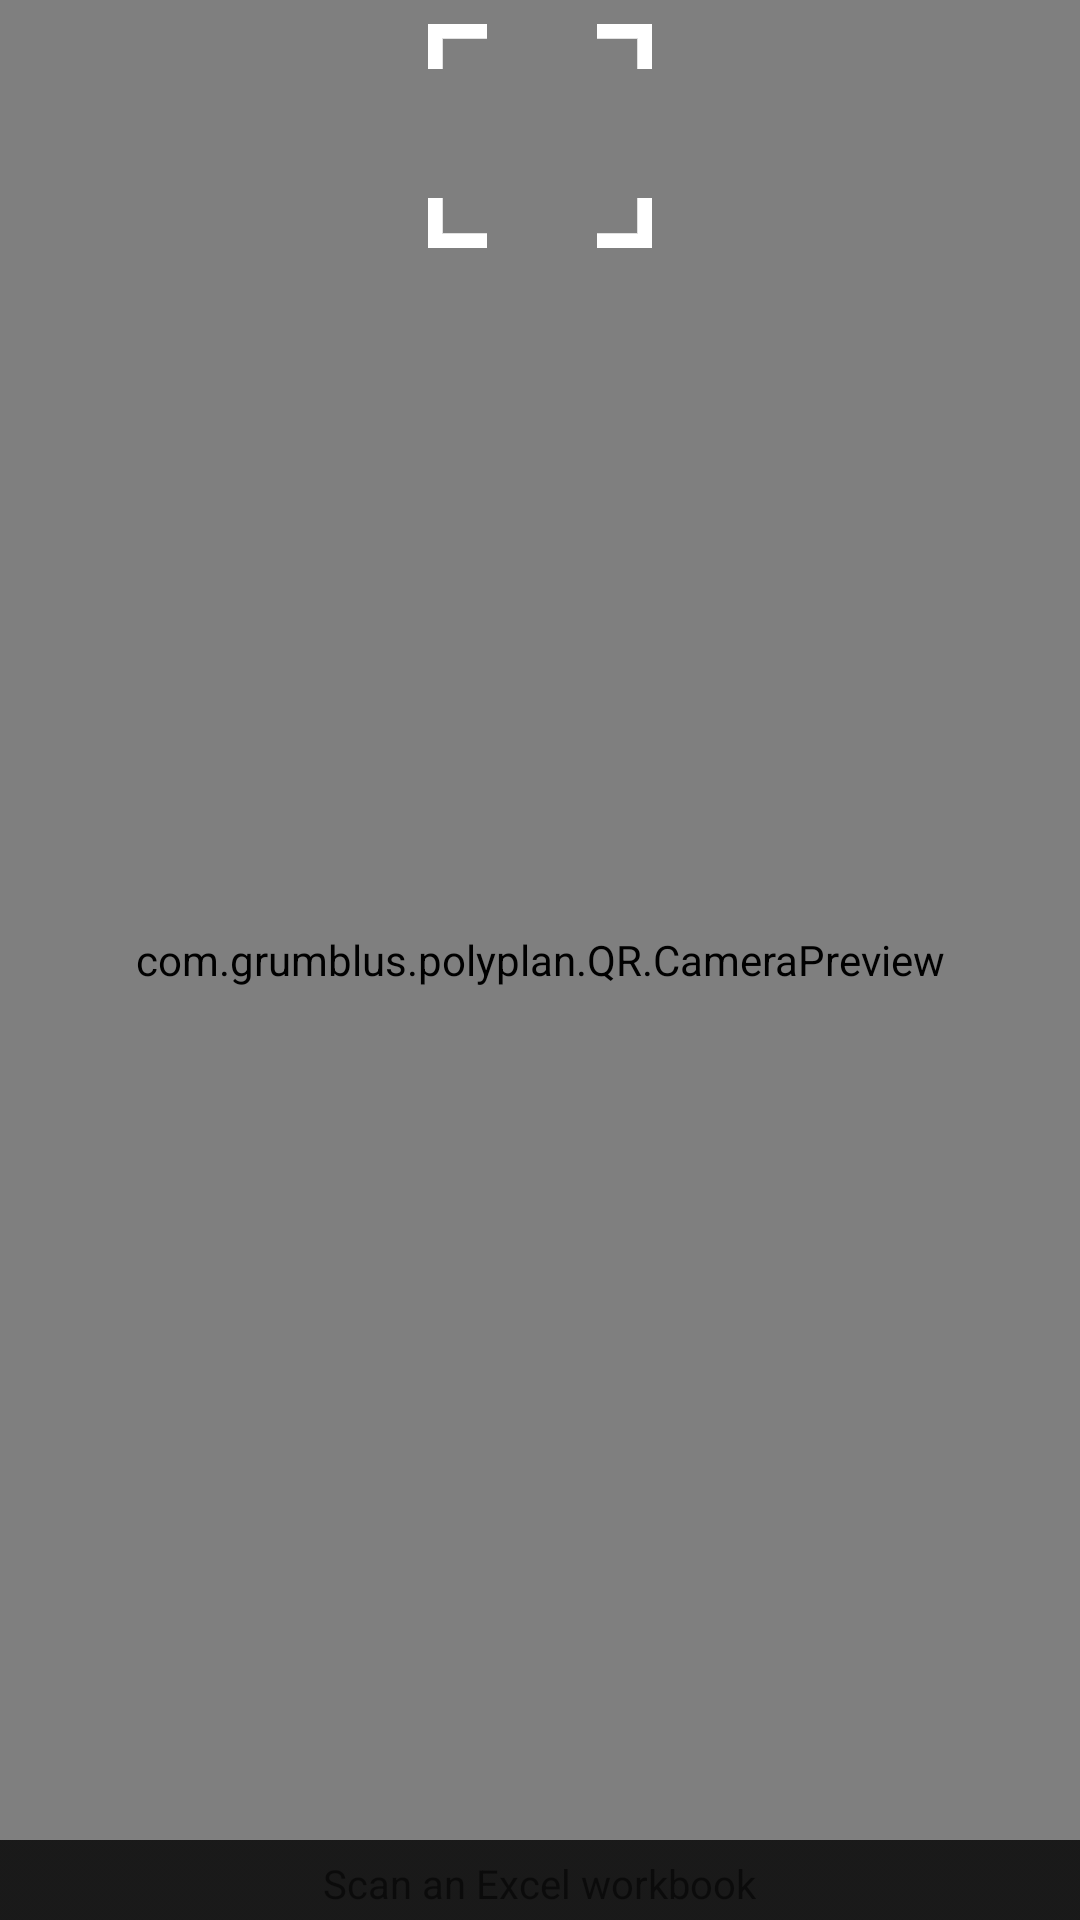

Icon click points for this 1080×1920 phone screenshot, format point (x, y):
scan target: point (540, 136)
